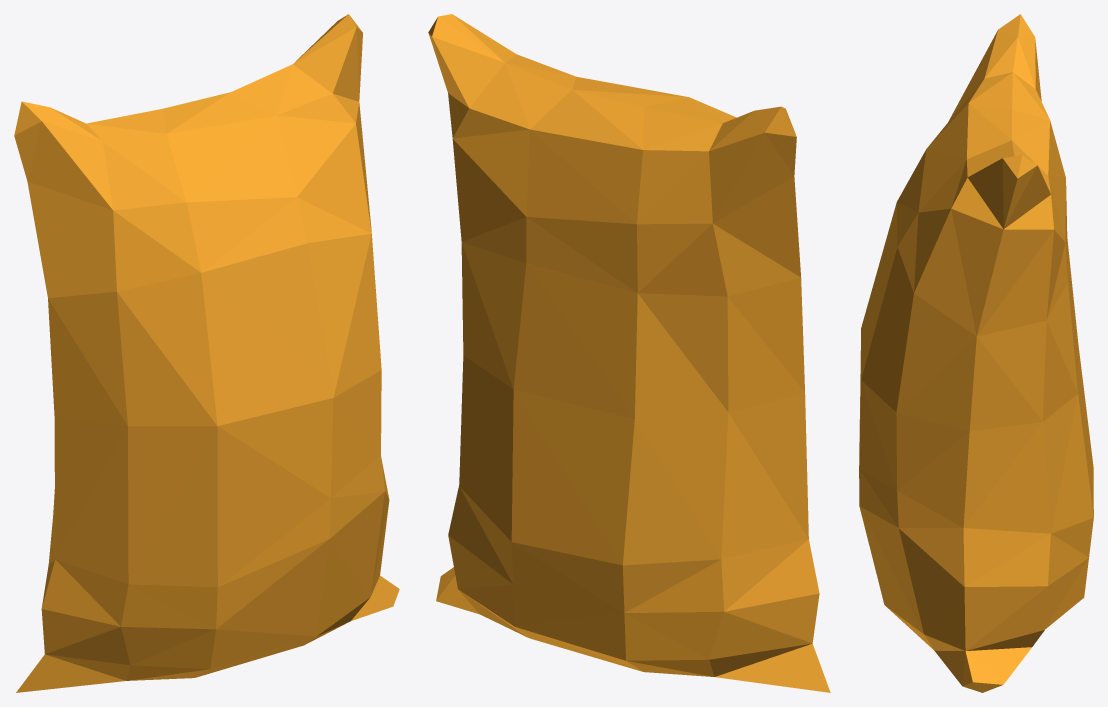
The model's file is SM_Bag_Standing_Farm.fbx.
The picture shows the model from 3 angles, left to right: view 1: azimuth 30°, elevation 25°; view 2: azimuth 150°, elevation 25°; view 3: azimuth 270°, elevation 25°; orthographic projection. The views are drawn at different scales.
Visible parts, largest first — view 1: bag-standing-farm; view 2: bag-standing-farm; view 3: bag-standing-farm.
Boxes of the visible parts, x1=… form: bag-standing-farm: x1=14, y1=14, x2=399, y2=692; bag-standing-farm: x1=428, y1=14, x2=830, y2=692; bag-standing-farm: x1=859, y1=14, x2=1093, y2=692.
Size of the model in its own units: 0.6185 by 0.9003 by 0.361.
